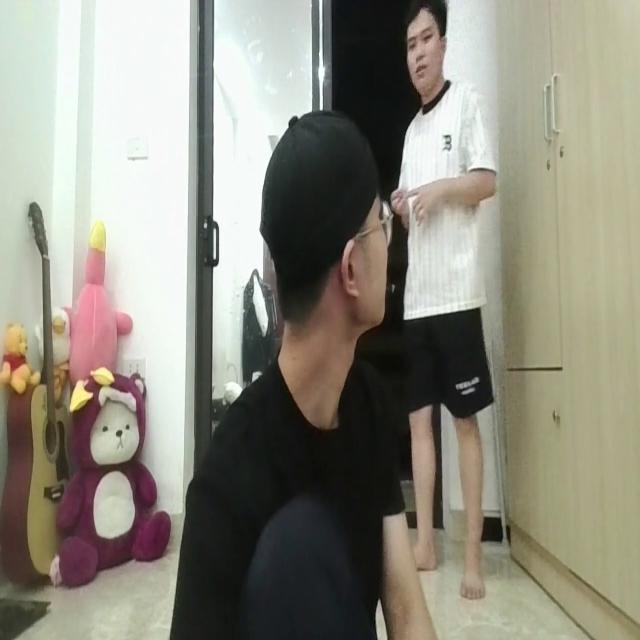extra_person: (401, 0, 505, 611)
student: (185, 113, 413, 640)
